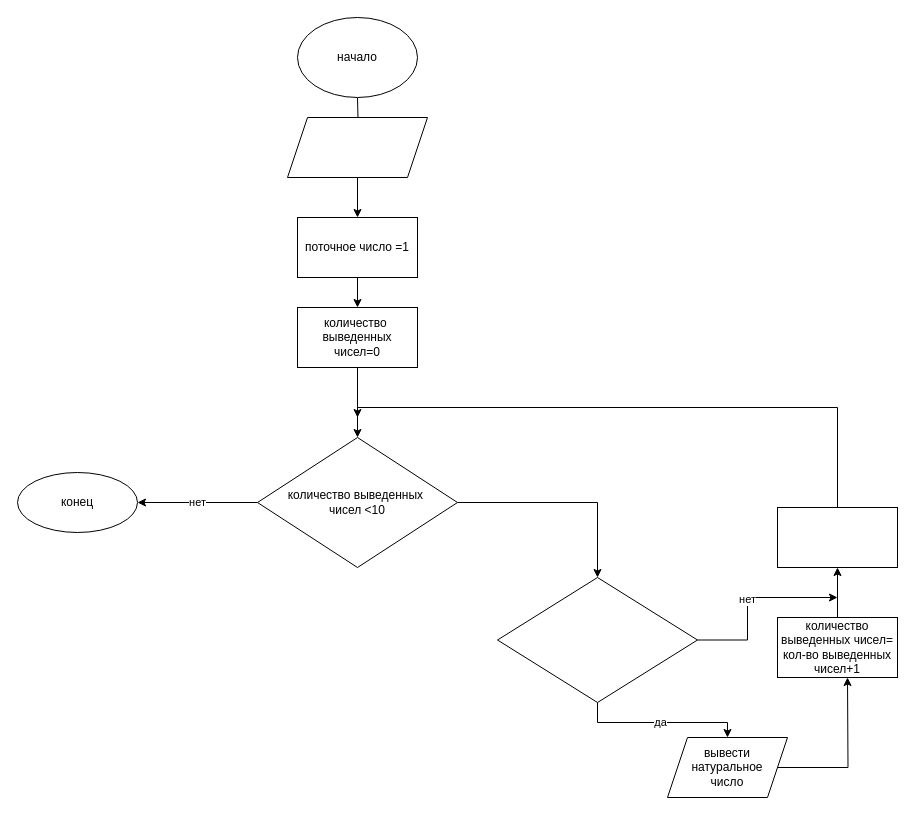
Image size: 915x815. Some labels were removed from this diagram. Here are the shapes that lost their labels. From the top down, the centre of each, then its label:
At point (357, 147): "ввод натурального числа N".
At point (837, 537): "поточное число=поточное число+1".
At point (597, 639): "натуральное число нацело делится на N".
